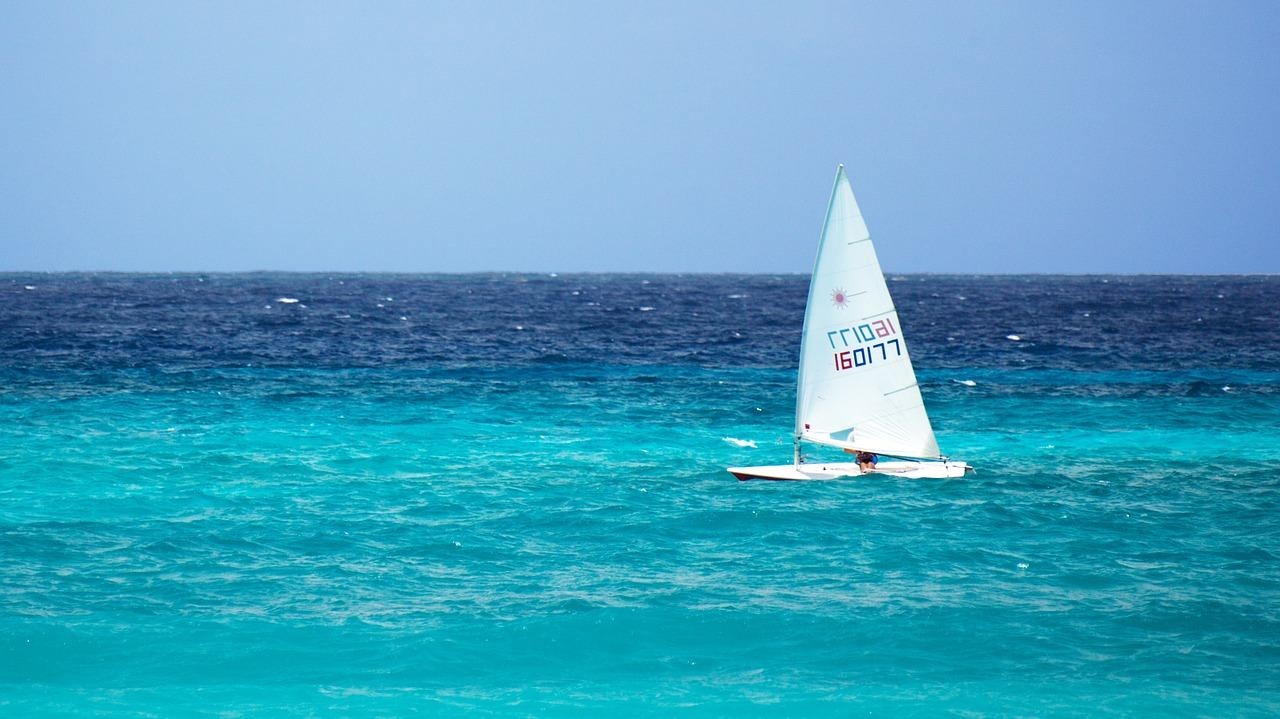Ship: (726, 163, 973, 486)
